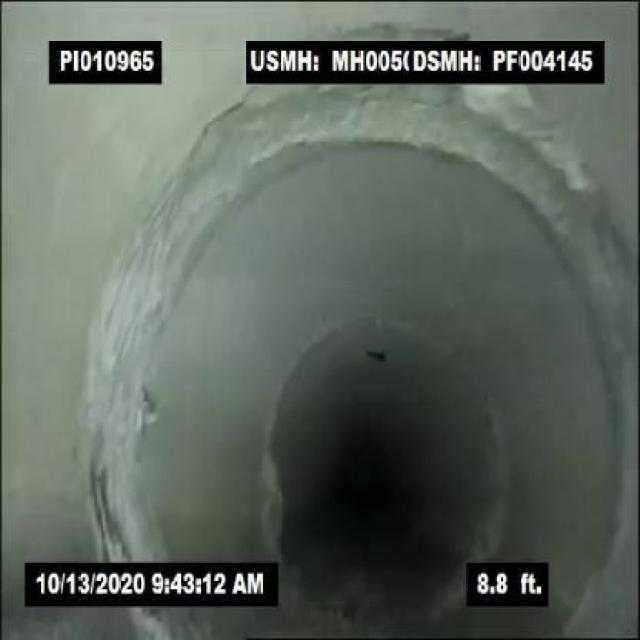Joint offset: (174, 89, 589, 189), (100, 192, 220, 525), (526, 189, 639, 363)
